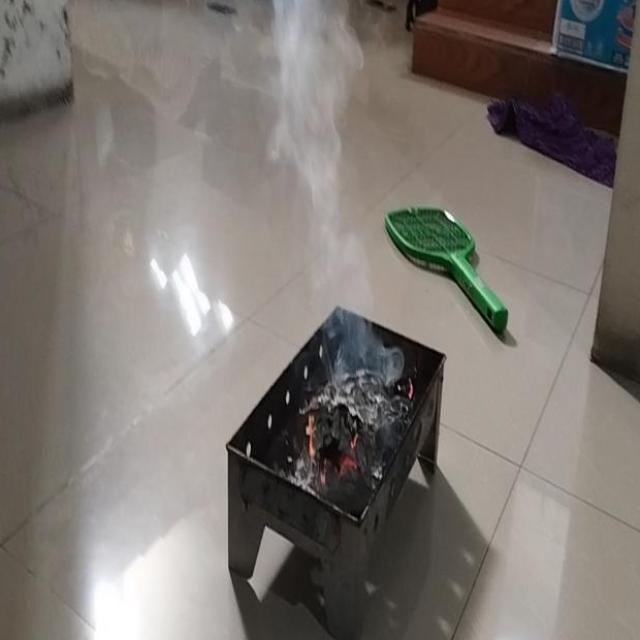fire: (276, 0, 352, 193), (314, 235, 378, 368)
